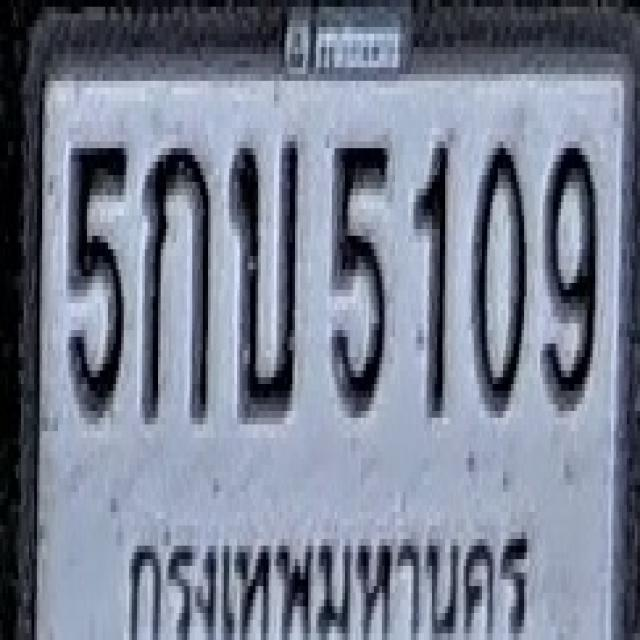0: (471, 141, 527, 411)
1: (414, 138, 451, 414)
5: (68, 138, 126, 414), (331, 138, 388, 414)
9: (543, 138, 595, 408)
A01: (142, 142, 211, 418)
A26: (230, 132, 299, 414)
BKK: (122, 500, 534, 640)
